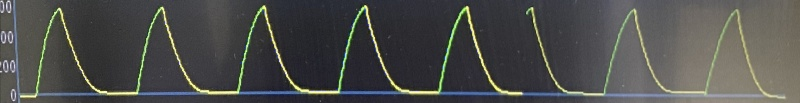normal_volume: (0, 0, 800, 103)
